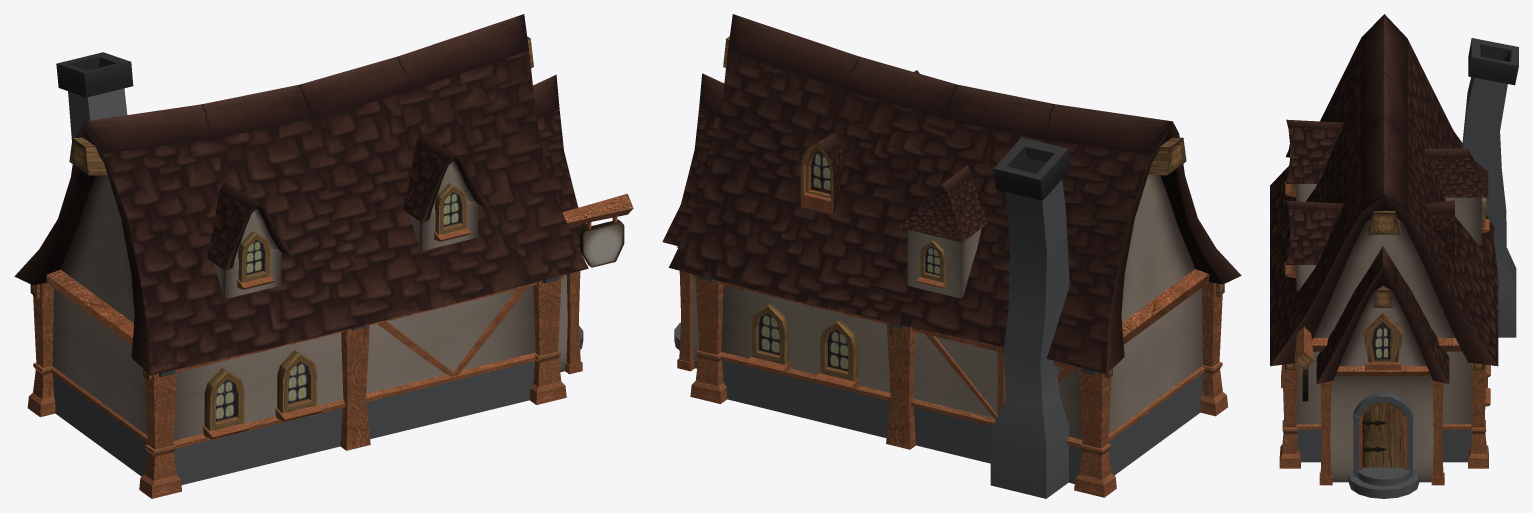
The model's file is fanasty_mod_village_building05.fbx.
3 renders of one model, left to right at view 1: azimuth 30°, elevation 25°; view 2: azimuth 150°, elevation 25°; view 3: azimuth 270°, elevation 25°, orthographic. The views are drawn at different scales.
Visible parts, largest first — view 1: village_building_05; view 2: village_building_05; view 3: village_building_05.
Boxes of the visible parts, box(x1,y1,x2,y2) form: village_building_05: box(14, 14, 633, 498); village_building_05: box(662, 14, 1241, 498); village_building_05: box(1270, 14, 1518, 498).
Size of the model in its own units: 14.14 by 9 by 7.21.
